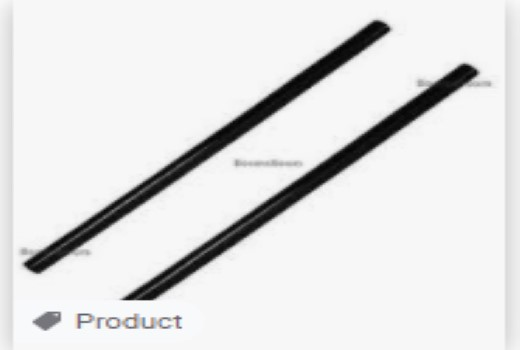baston_e: (52, 18, 369, 272), (134, 78, 473, 285)
baston_v: (113, 287, 159, 321), (16, 253, 62, 282), (364, 10, 402, 41), (454, 54, 486, 83)
